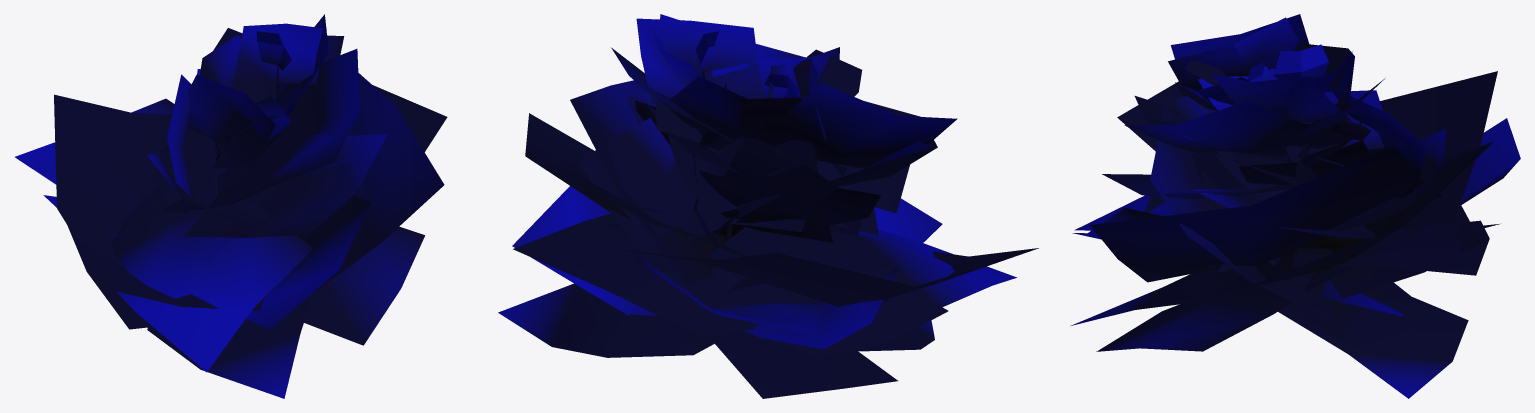
Rendered from SM_Foliage_ShrubA_04.fbx.
3 renders of one model, left to right at view 1: azimuth 30°, elevation 25°; view 2: azimuth 150°, elevation 25°; view 3: azimuth 270°, elevation 25°, orthographic. The views are drawn at different scales.
Visible parts, largest first — view 1: SM_Foliage_ShrubA_04; view 2: SM_Foliage_ShrubA_04; view 3: SM_Foliage_ShrubA_04.
Boxes of the visible parts, x1=… form: SM_Foliage_ShrubA_04: x1=15, y1=14, x2=447, y2=398; SM_Foliage_ShrubA_04: x1=498, y1=14, x2=1038, y2=398; SM_Foliage_ShrubA_04: x1=1071, y1=14, x2=1520, y2=398.
Bounding box in the file's own units: 399 × 340 × 277.
